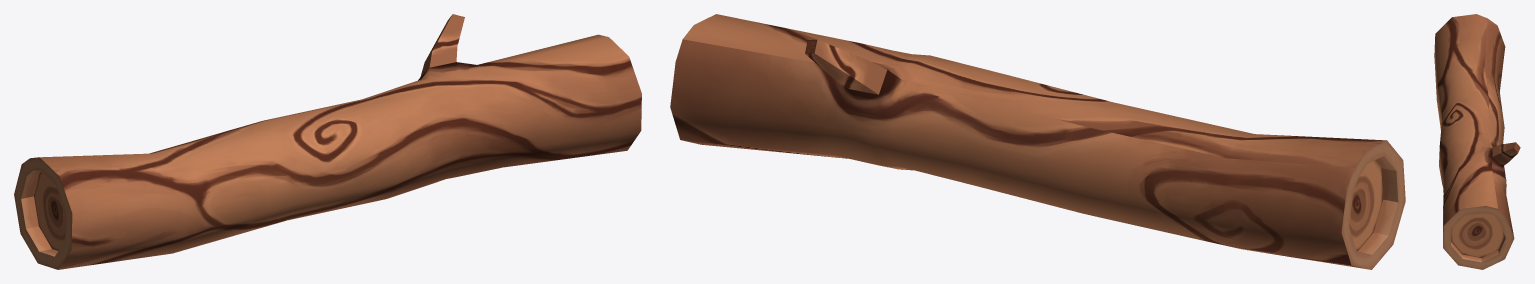
File: brewno.fbx
3 views of the same model, side by side, from view 1: azimuth 30°, elevation 25°; view 2: azimuth 150°, elevation 25°; view 3: azimuth 270°, elevation 25° (orthographic). The views are drawn at different scales.
Visible parts, largest first — view 1: SM_Log; view 2: SM_Log; view 3: SM_Log.
Boxes of the visible parts, x1,y1,x2,y2 form: SM_Log: (14, 14, 641, 269); SM_Log: (670, 14, 1405, 269); SM_Log: (1434, 14, 1520, 269).
Bounding box in the file's own units: 1233 × 288 × 254.
Materials: 1 (1 with a texture image).
